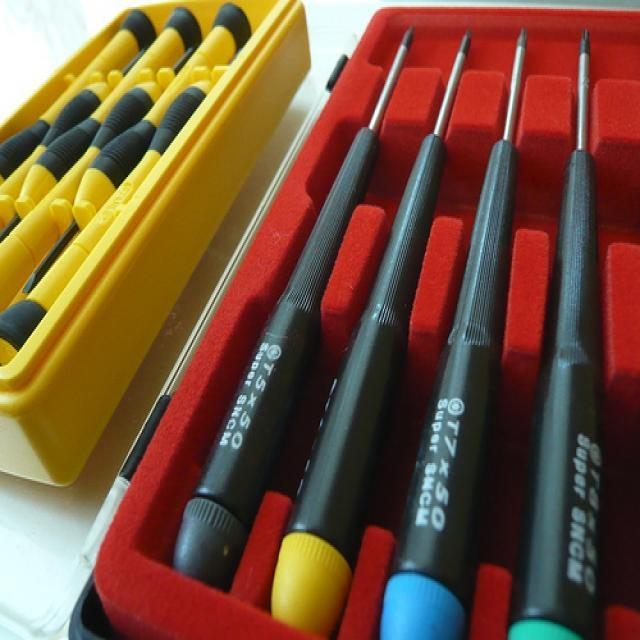screwdriver: (186, 8, 424, 586), (268, 22, 492, 631), (382, 10, 542, 640), (498, 1, 614, 640)
